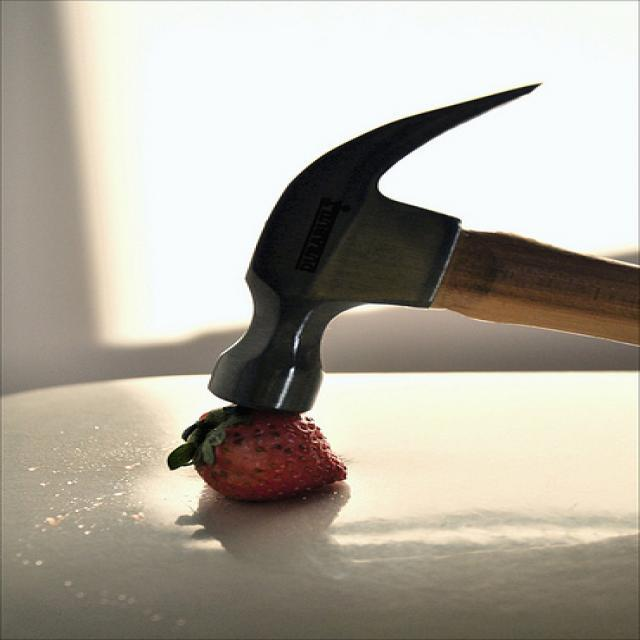hammer: (199, 76, 627, 426)
